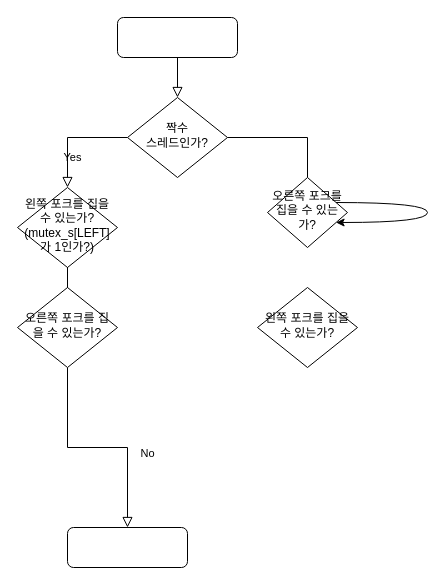
Some shapes in this 445 by 585 pixel diagram are drawn without their labels. The centre of each missing label's shape, as x and y in pixels:
"Repair Lamp" belongs at (x=127, y=547).
"스레드 실행" belongs at (x=177, y=37).
